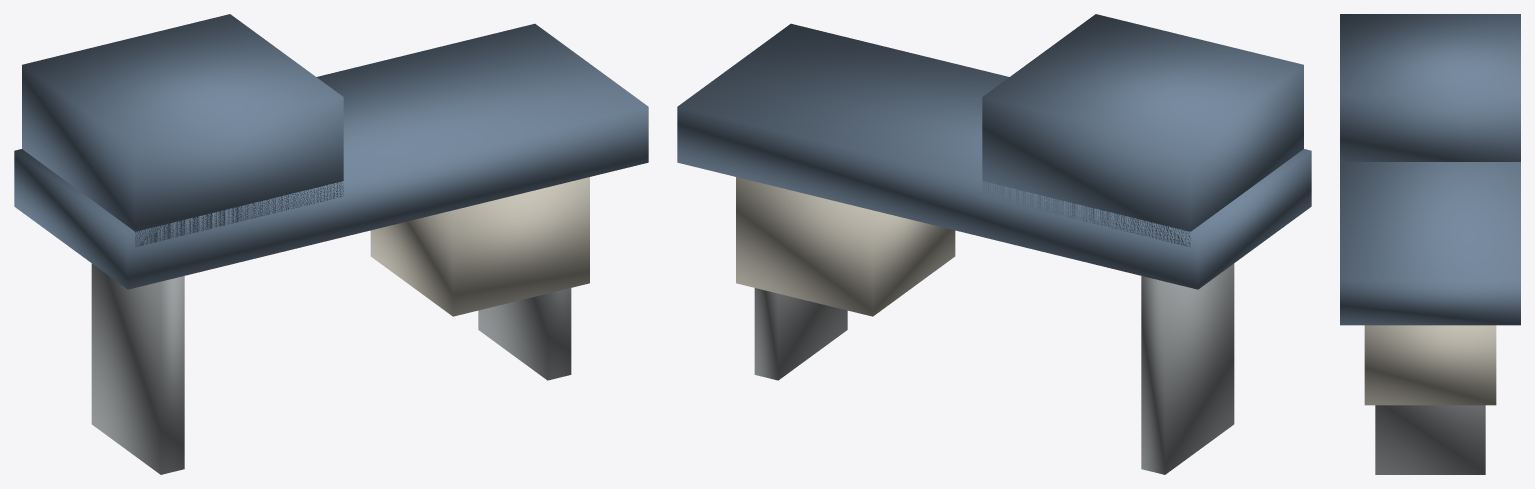
File: exam_table.glb
3 renders of one model, left to right at view 1: azimuth 30°, elevation 25°; view 2: azimuth 150°, elevation 25°; view 3: azimuth 270°, elevation 25°, orthographic. The views are drawn at different scales.
Visible parts, largest first — view 1: world; view 2: world; view 3: world.
Boxes of the visible parts, x1,y1,x2,y2 form: world: [14, 14, 648, 474]; world: [677, 14, 1311, 474]; world: [1340, 14, 1520, 474].
Bounding box in the file's own units: 1.75 × 1.14 × 0.66.
